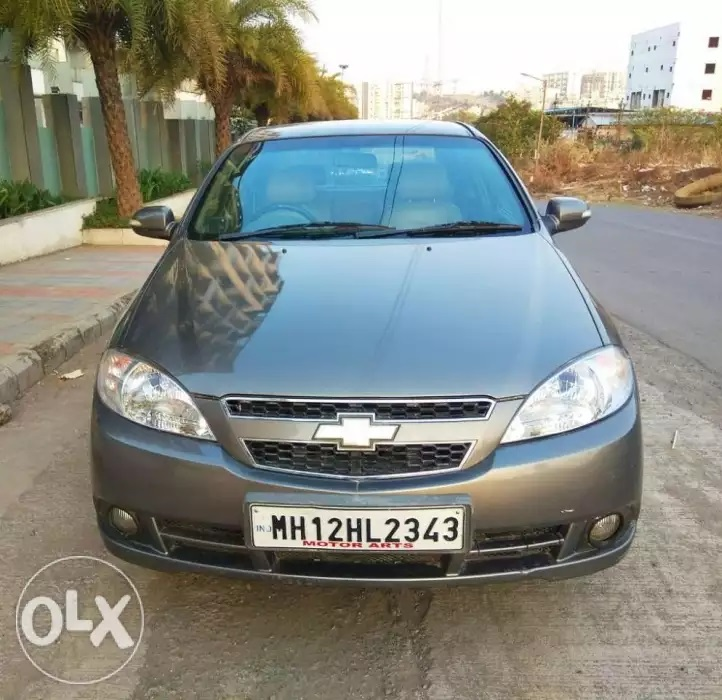licenseplate: (243, 501, 470, 555)
